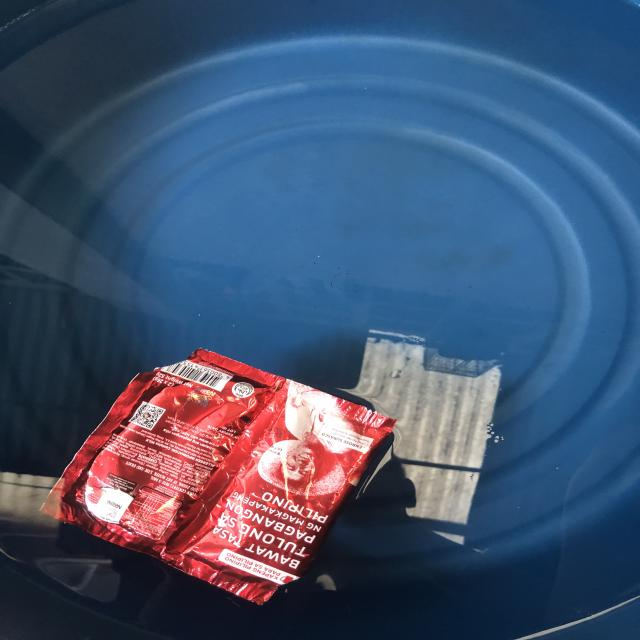Plastic Wrapper: (19, 335, 428, 611)
